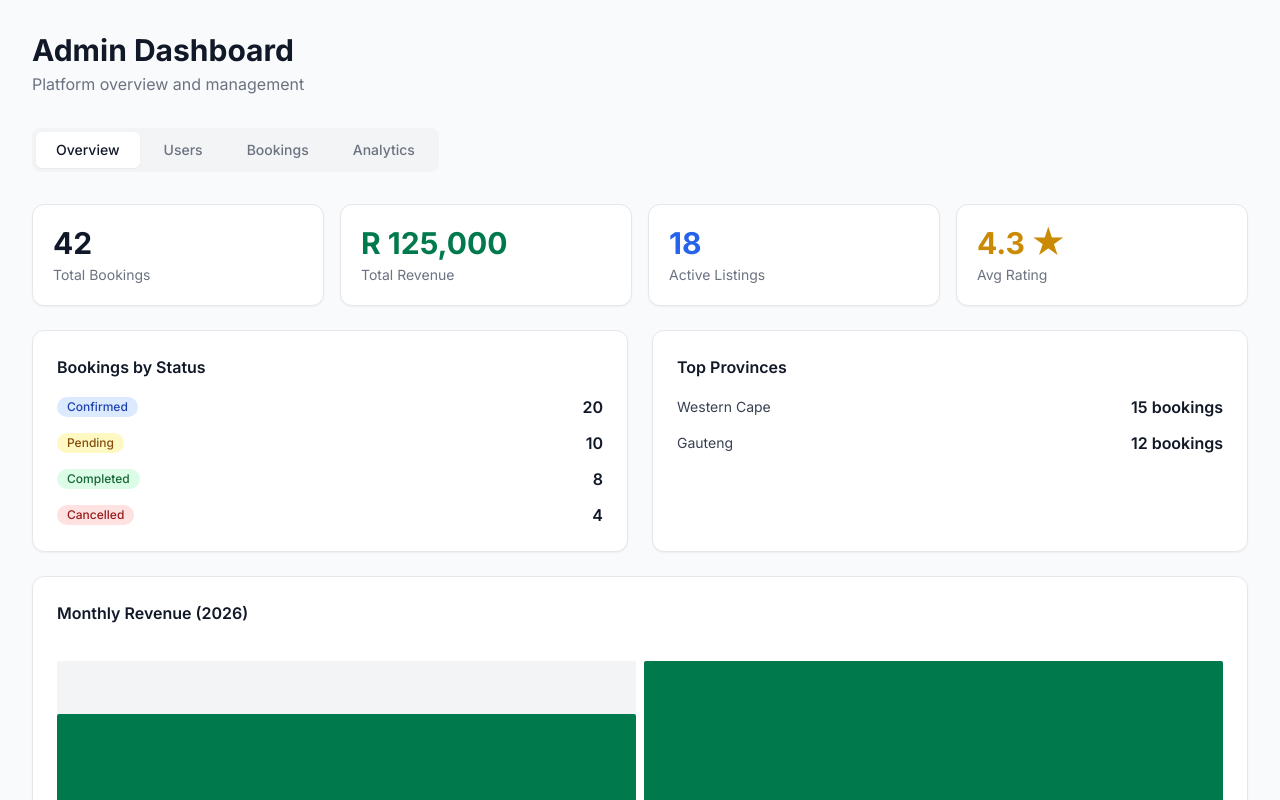
Scenario: AdminDashboardPage › should switch to bookings tab and show bookings
Expected: the heading "Admin Dashboard" is shown, [32,32,294,68]
Step 1. Click the button "bookings" → coordinates (278, 150), box [227,132,329,168]
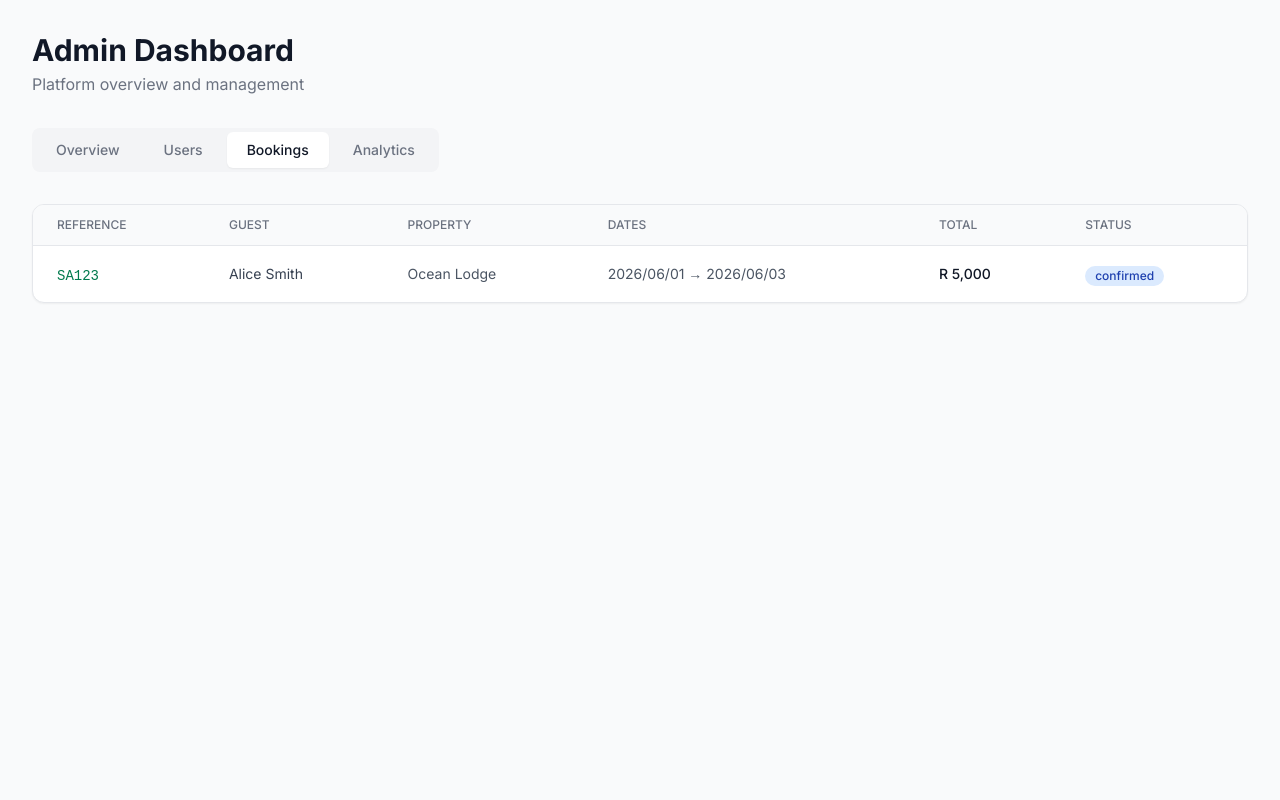
Expected: the link "SA123" is shown, [57,268,99,284]
Expected: the text "Ocean Lodge" is shown, [384,246,584,302]
